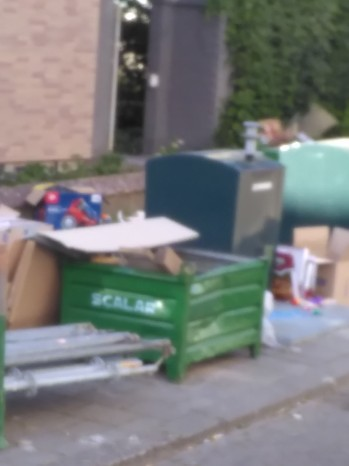Container: (153, 153, 283, 245)
Rest: (80, 207, 240, 363), (6, 196, 120, 398), (15, 213, 110, 365), (262, 114, 349, 231), (268, 239, 334, 313), (30, 178, 94, 226)
